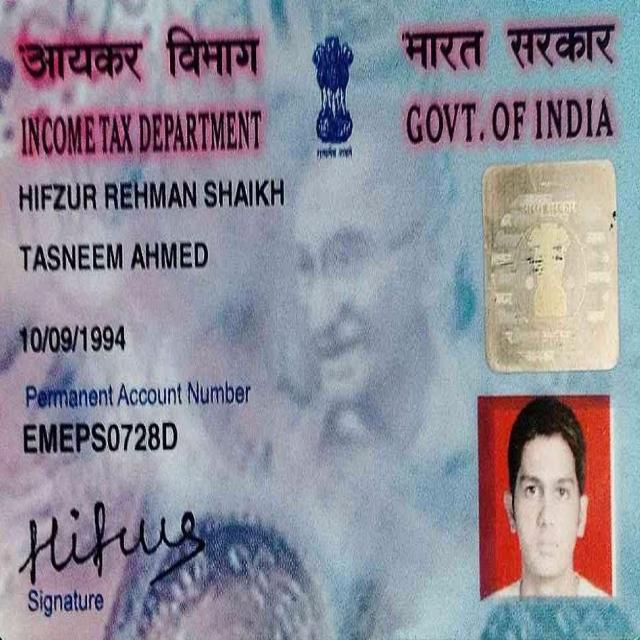pan_card: (1, 1, 640, 638)
